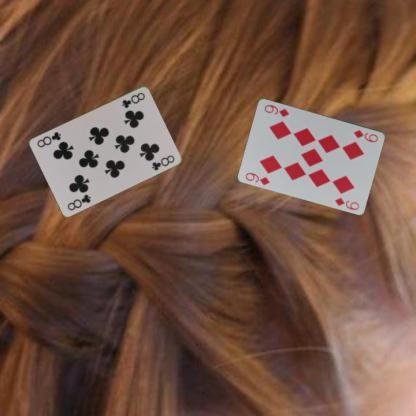8c: (65, 192, 92, 212), (119, 90, 146, 109)
9d: (242, 170, 272, 186), (351, 127, 380, 143)
